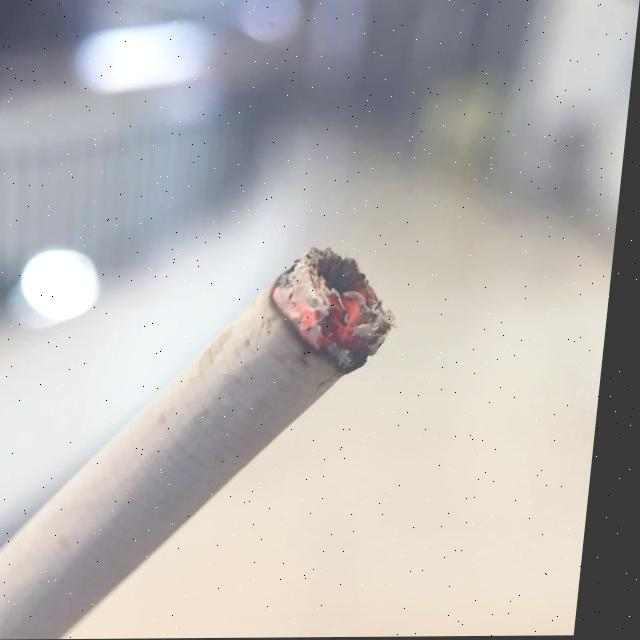cigarette: (0, 246, 411, 639)
